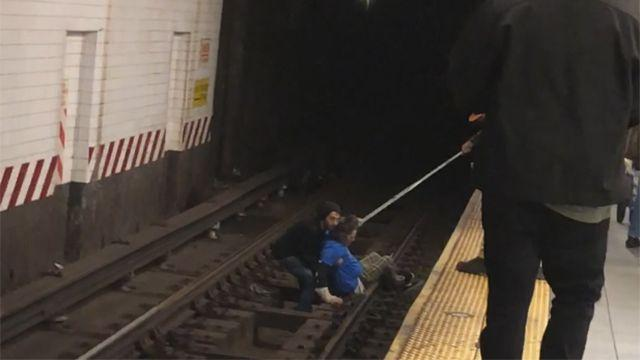person: (429, 0, 625, 360), (321, 198, 426, 303), (265, 182, 335, 312)
